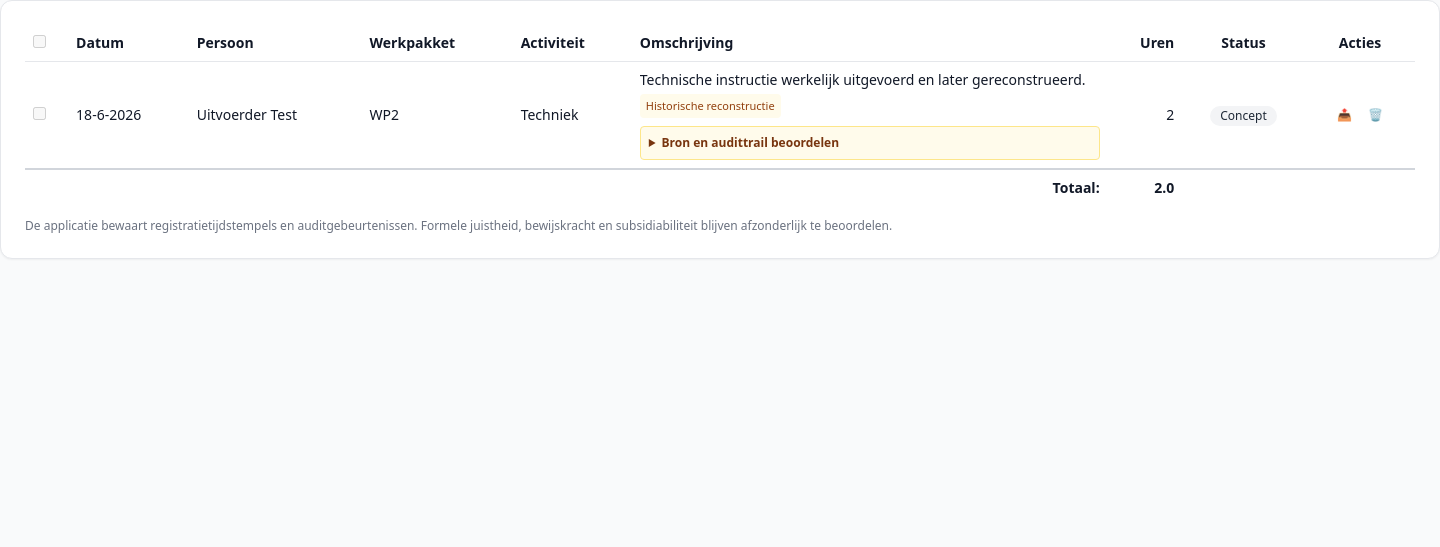
Test: HoursList historische reconstructies › sluit reconstructies uit van generieke bulkacties en toont reviewbewijs
This screenshot has width=1440, height=547.
Expected: the checkbox named "selecteer historische reconstructie" is disabled, [33,107,46,120]
Click the heading "Bron en audittrail beoordelen" at [750, 142], box [662,134,839,151]
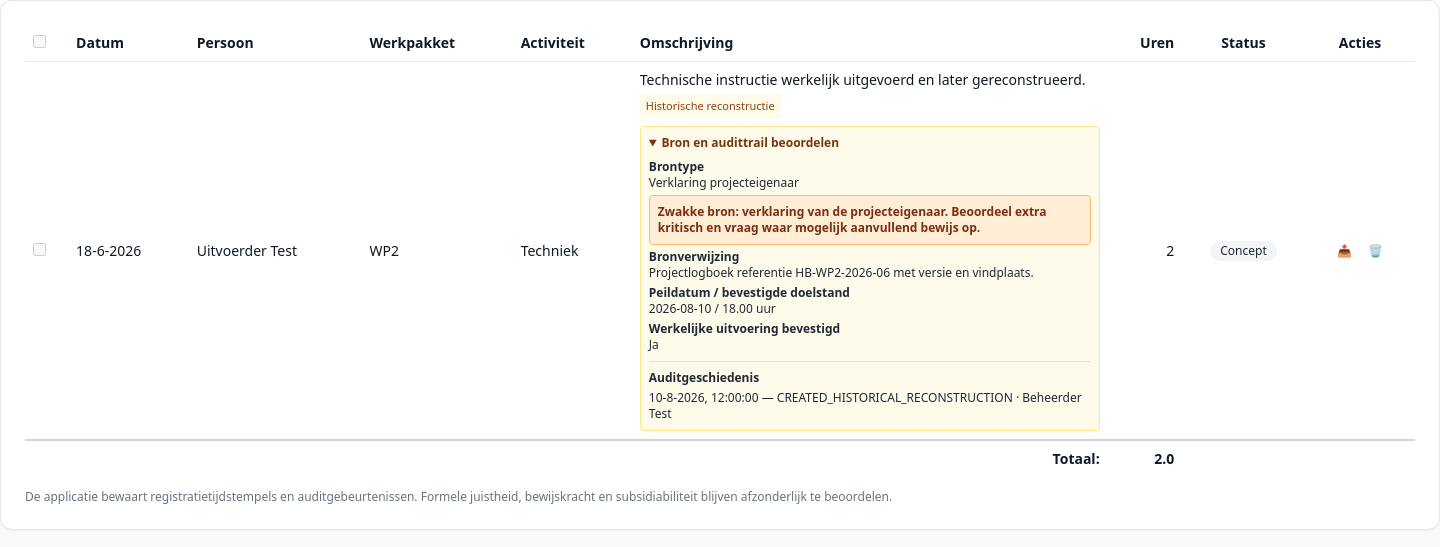
Expected: the text "Verklaring projecteigenaar" is shown, [649,174,799,191]
Expected: the text "Zwakke bron" is shown, [658,203,1046,236]
Expected: the text "HB-WP2-2026-06" is shown, [649,264,1034,281]
